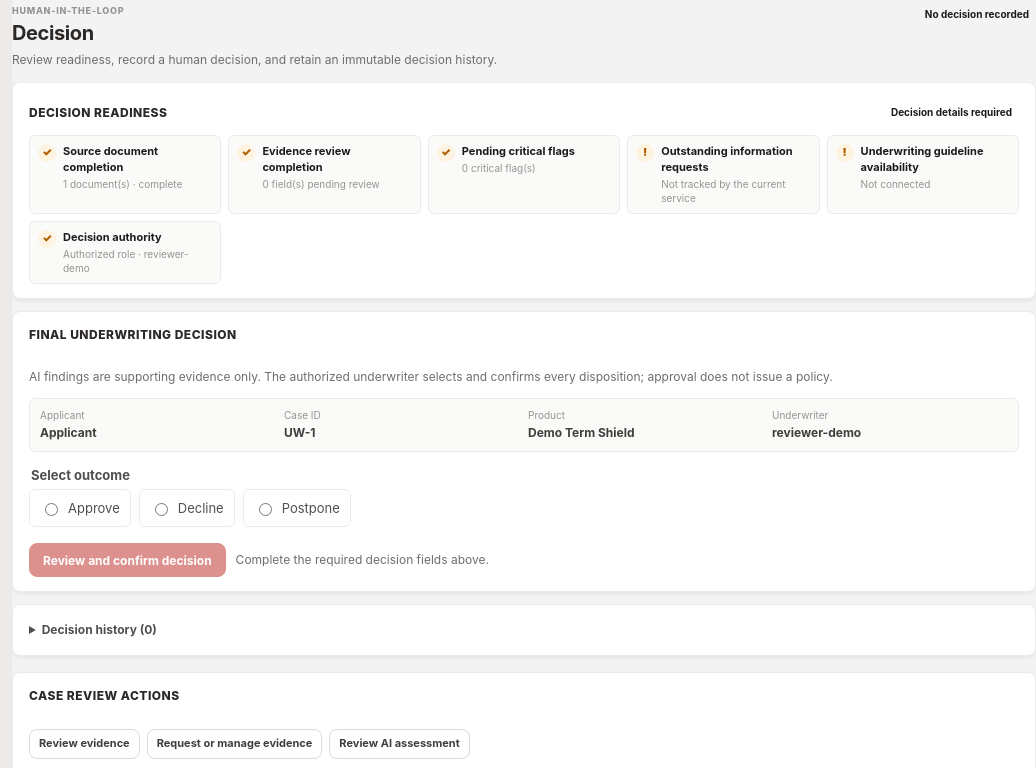
Scenario: decision cockpit approve defaults › leaves premium empty when no indicative premium was calculated
What coordinates should you click on to do the following:
click the radio button labelled "Approve"
I would click on:
 (52, 510)
Its box is [45,503,58,516].
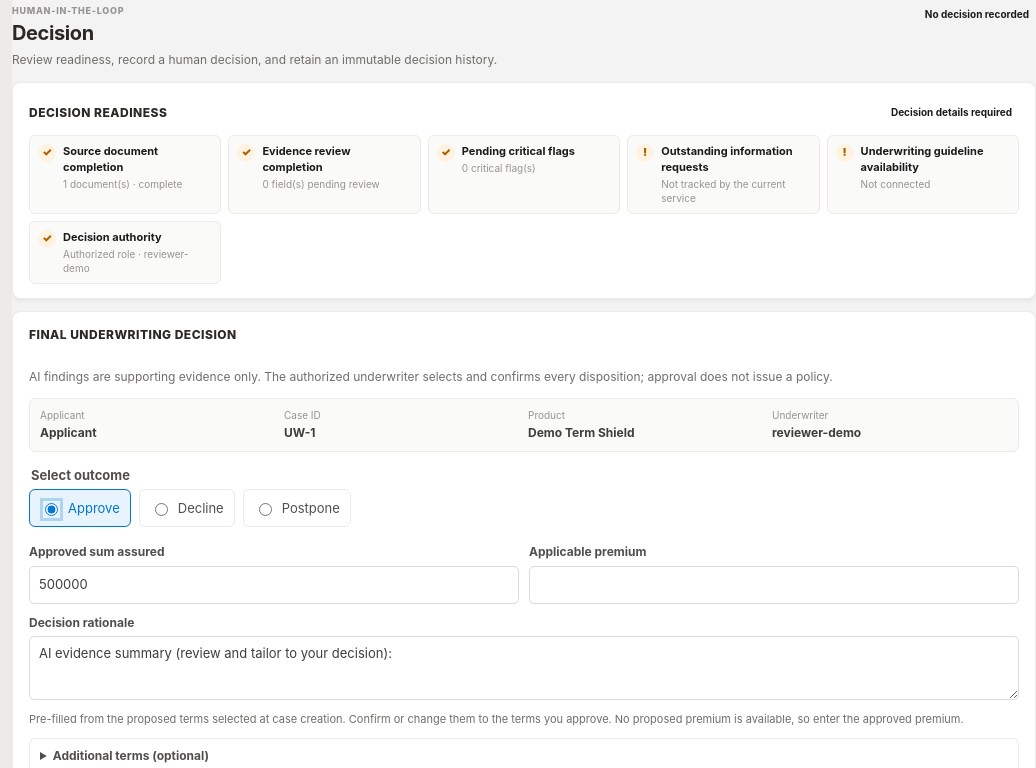
expect the number field labelled "Approved sum assured" holds "500000": met, box [29,566,519,604]
expect the number field labelled "Applicable premium" is not empty: met, box [529,566,1019,604]
expect the text "No proposed premium is available" is shown: met, box [29,712,964,726]
